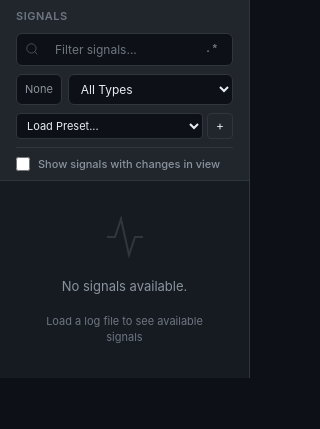
it: SignalSidebar › Filter Presets › shows save preset dialog
Click the button titled "Save Preset".
click(220, 126)  # box left=207, top=112, right=233, bottom=138
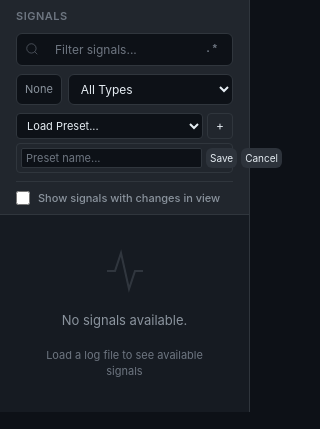
Expected: the field with placeholder "Preset name..." is shown, left=21, top=148, right=202, bottom=168
